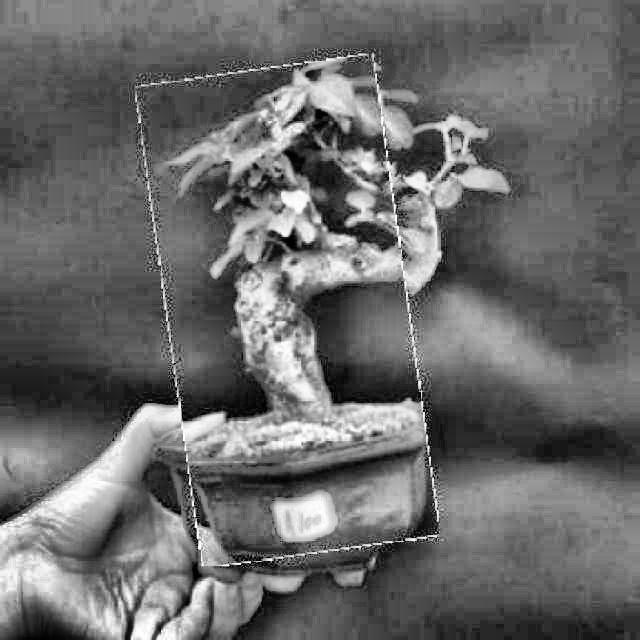plants: (151, 61, 424, 562)
